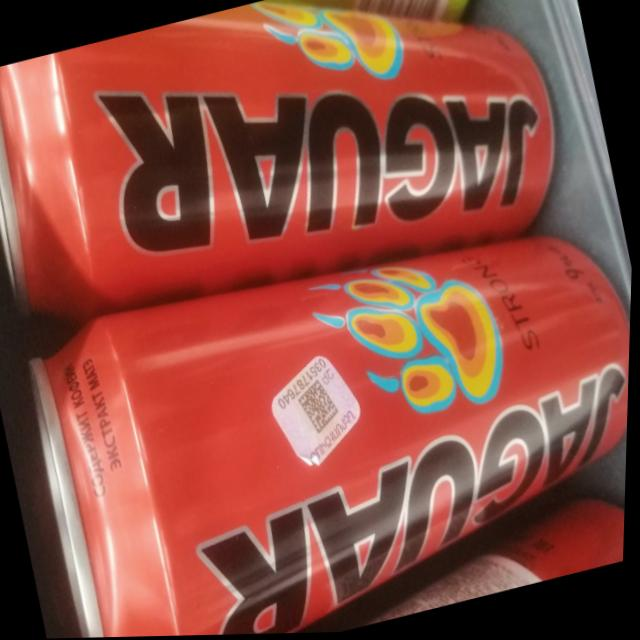datamatrix: (294, 371, 348, 438)
